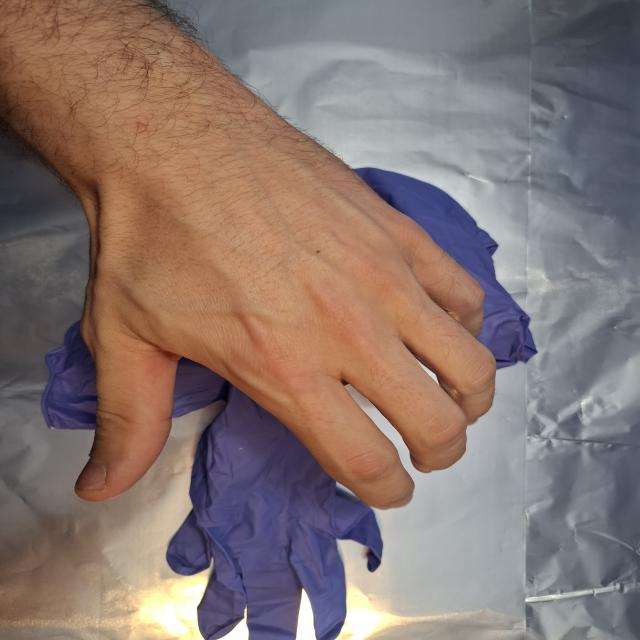glove_off: (68, 80, 502, 510)
